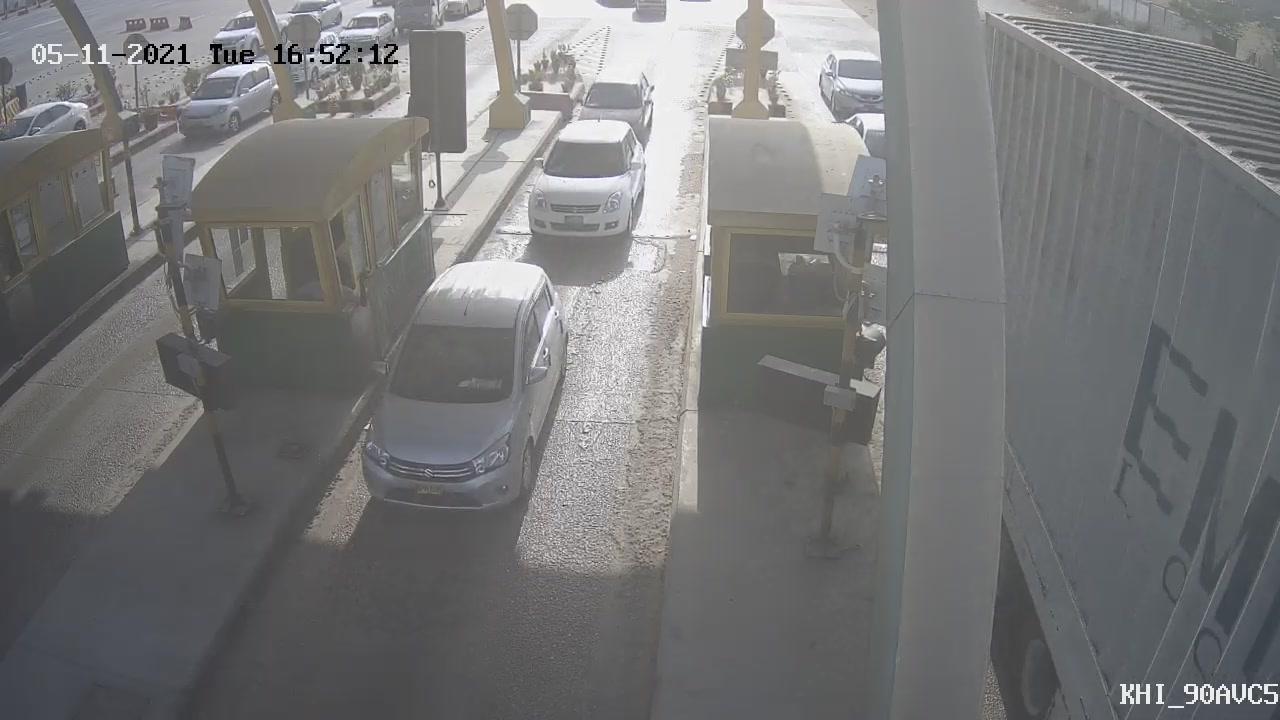F1: (338, 242, 586, 533), (509, 102, 663, 259)
